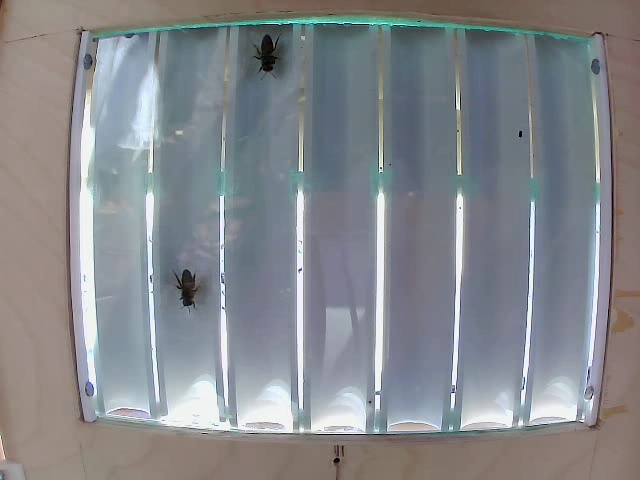bee: (165, 265, 216, 326), (252, 32, 296, 92)
